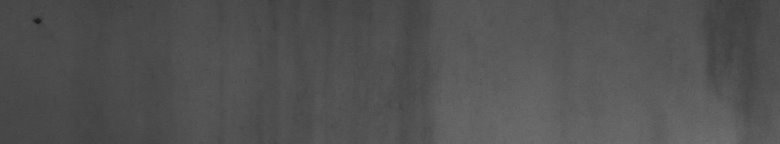fi: (29, 12, 42, 32)
